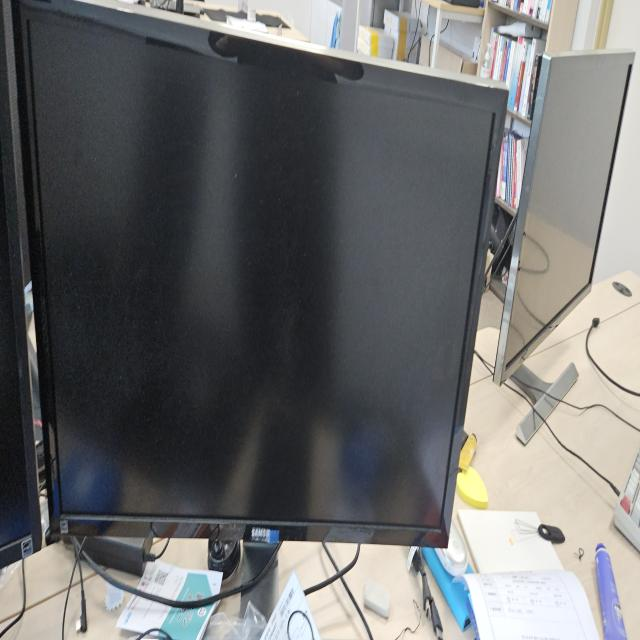Monitor: (11, 2, 511, 575)
